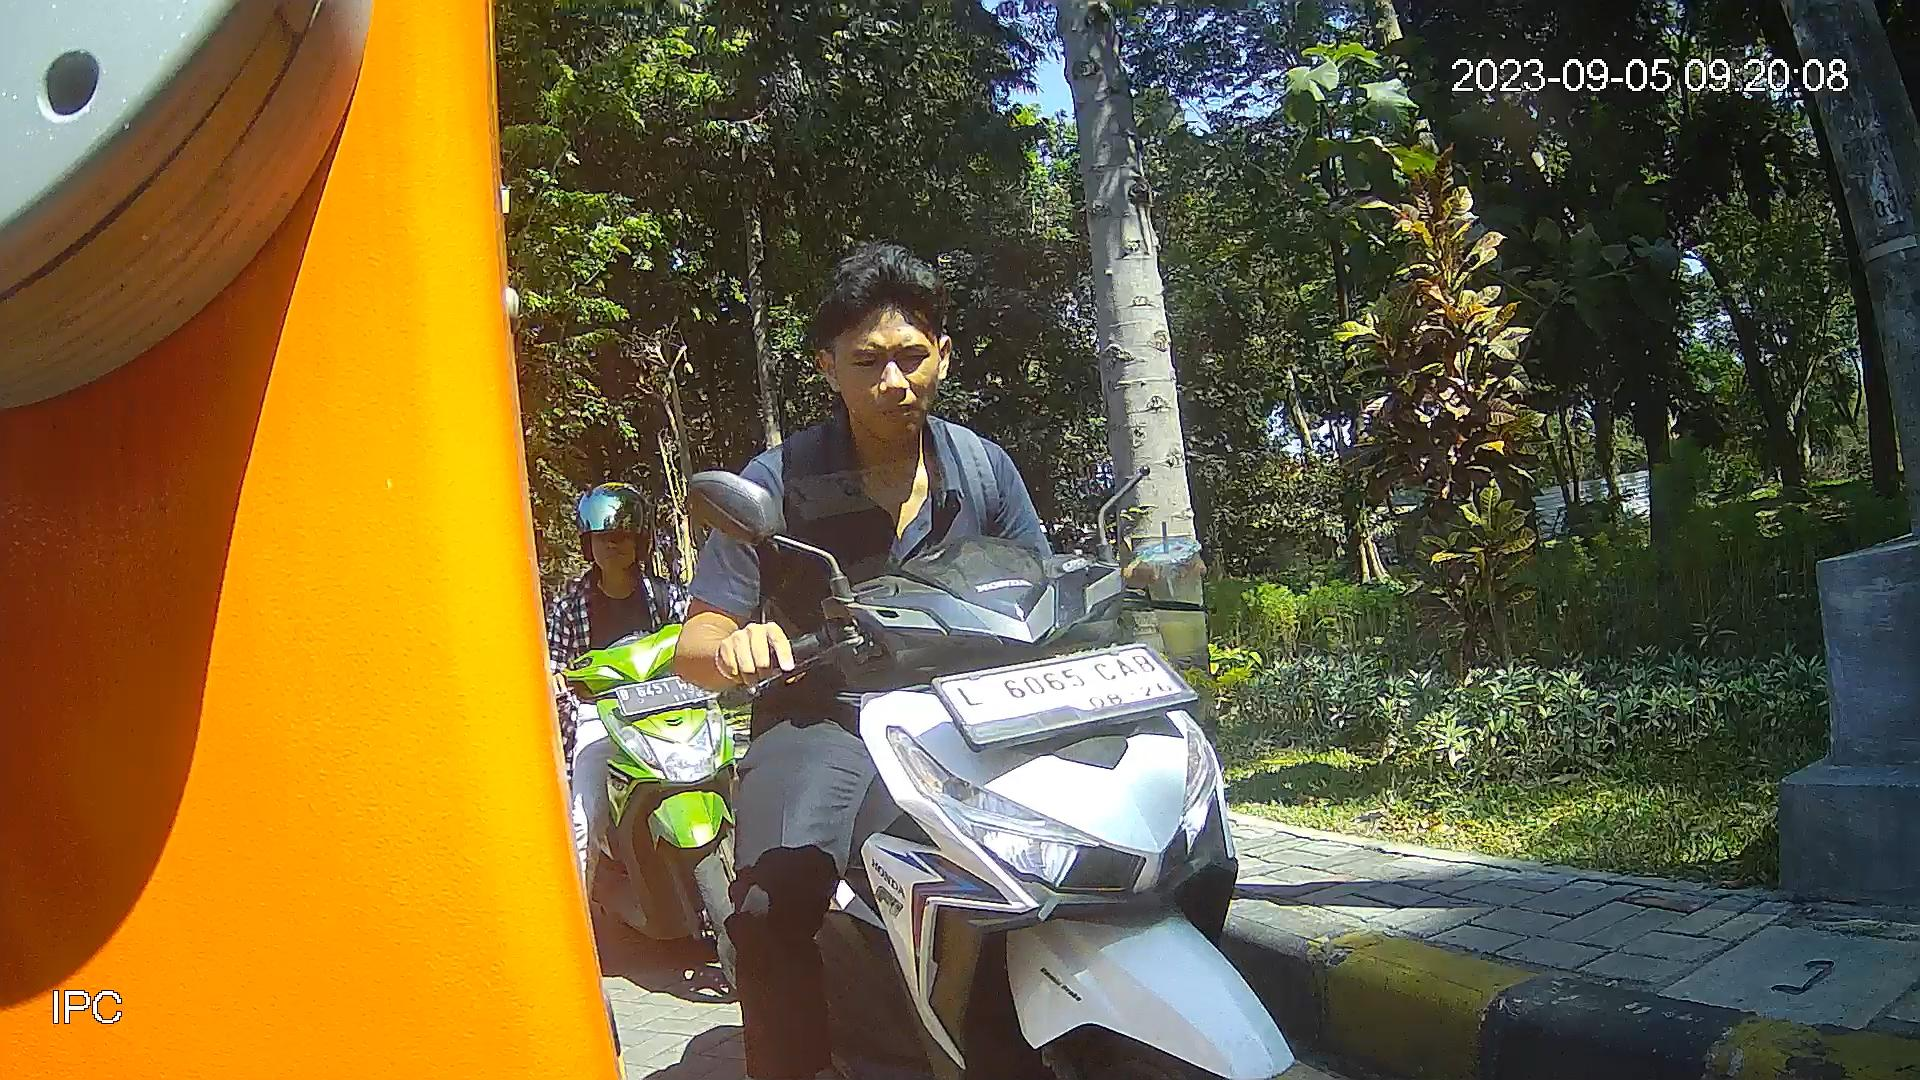plat: (927, 638, 1208, 752)
